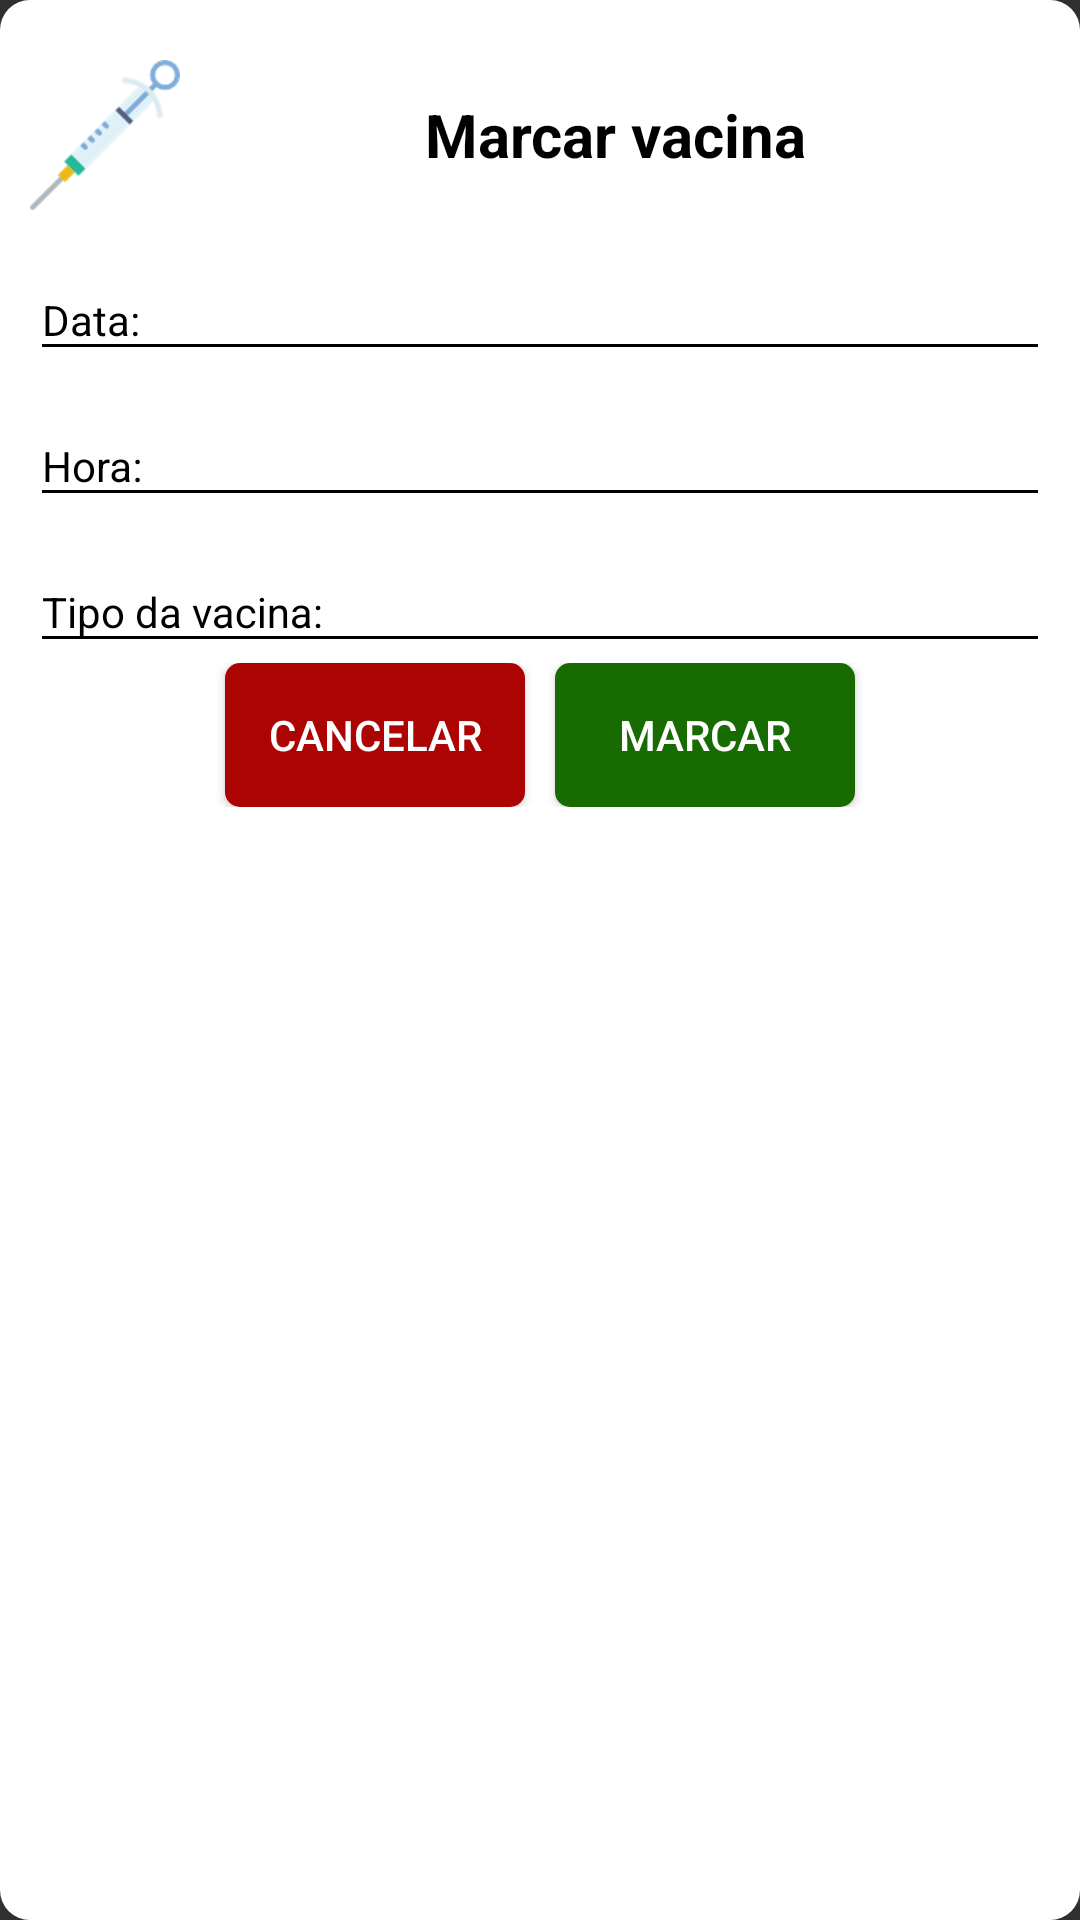

Icons on this 1080×1920 Android screen, each with the point to tap as (x=x, y=y):
syringe: (x=105, y=135)
